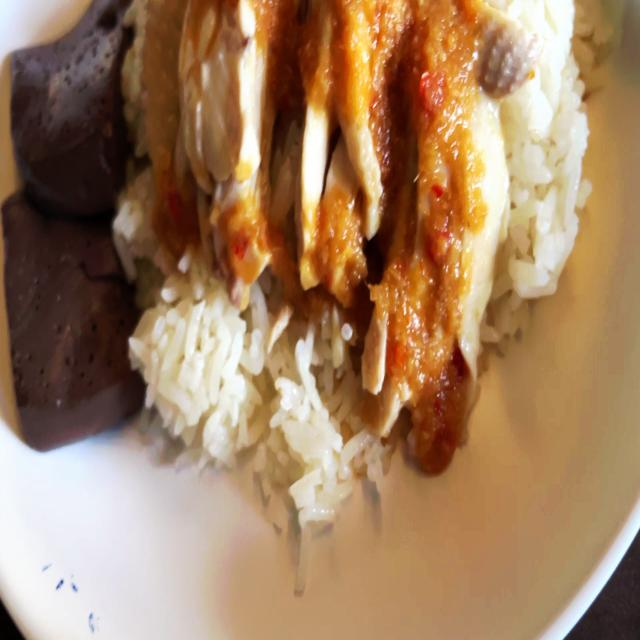boiled_chicken: (136, 0, 563, 425)
boiled_chicken_blood_jelly: (2, 158, 135, 430), (3, 10, 135, 201)
chicken_rice: (0, 0, 608, 570)
